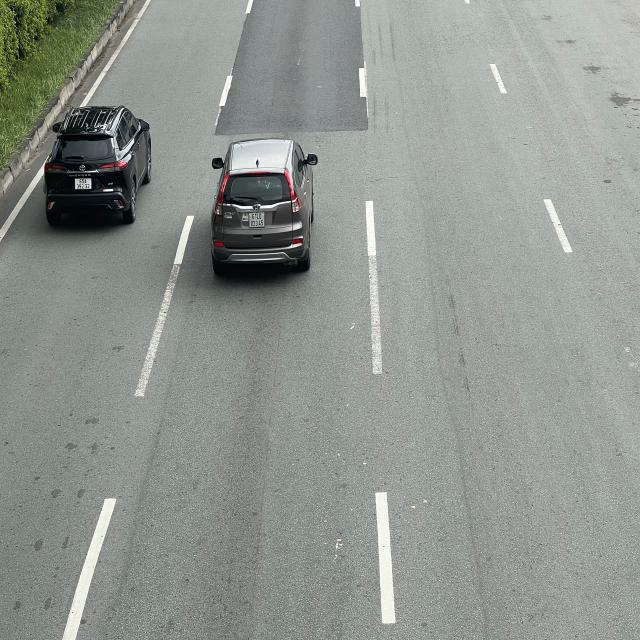car: (211, 139, 316, 276), (45, 104, 156, 228)
